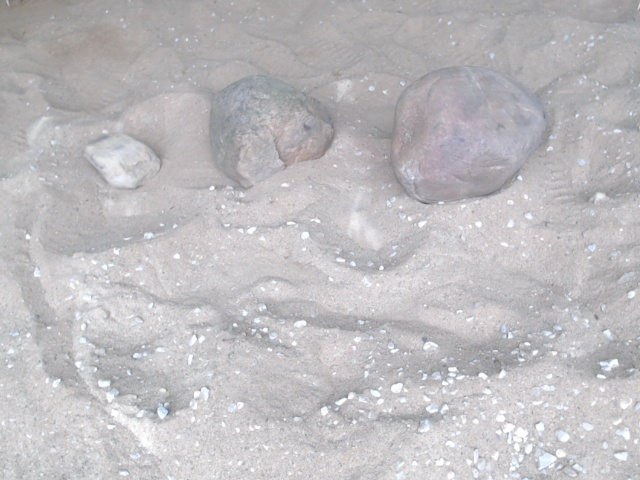rock: (385, 62, 550, 209), (204, 69, 339, 193), (78, 129, 165, 195)
